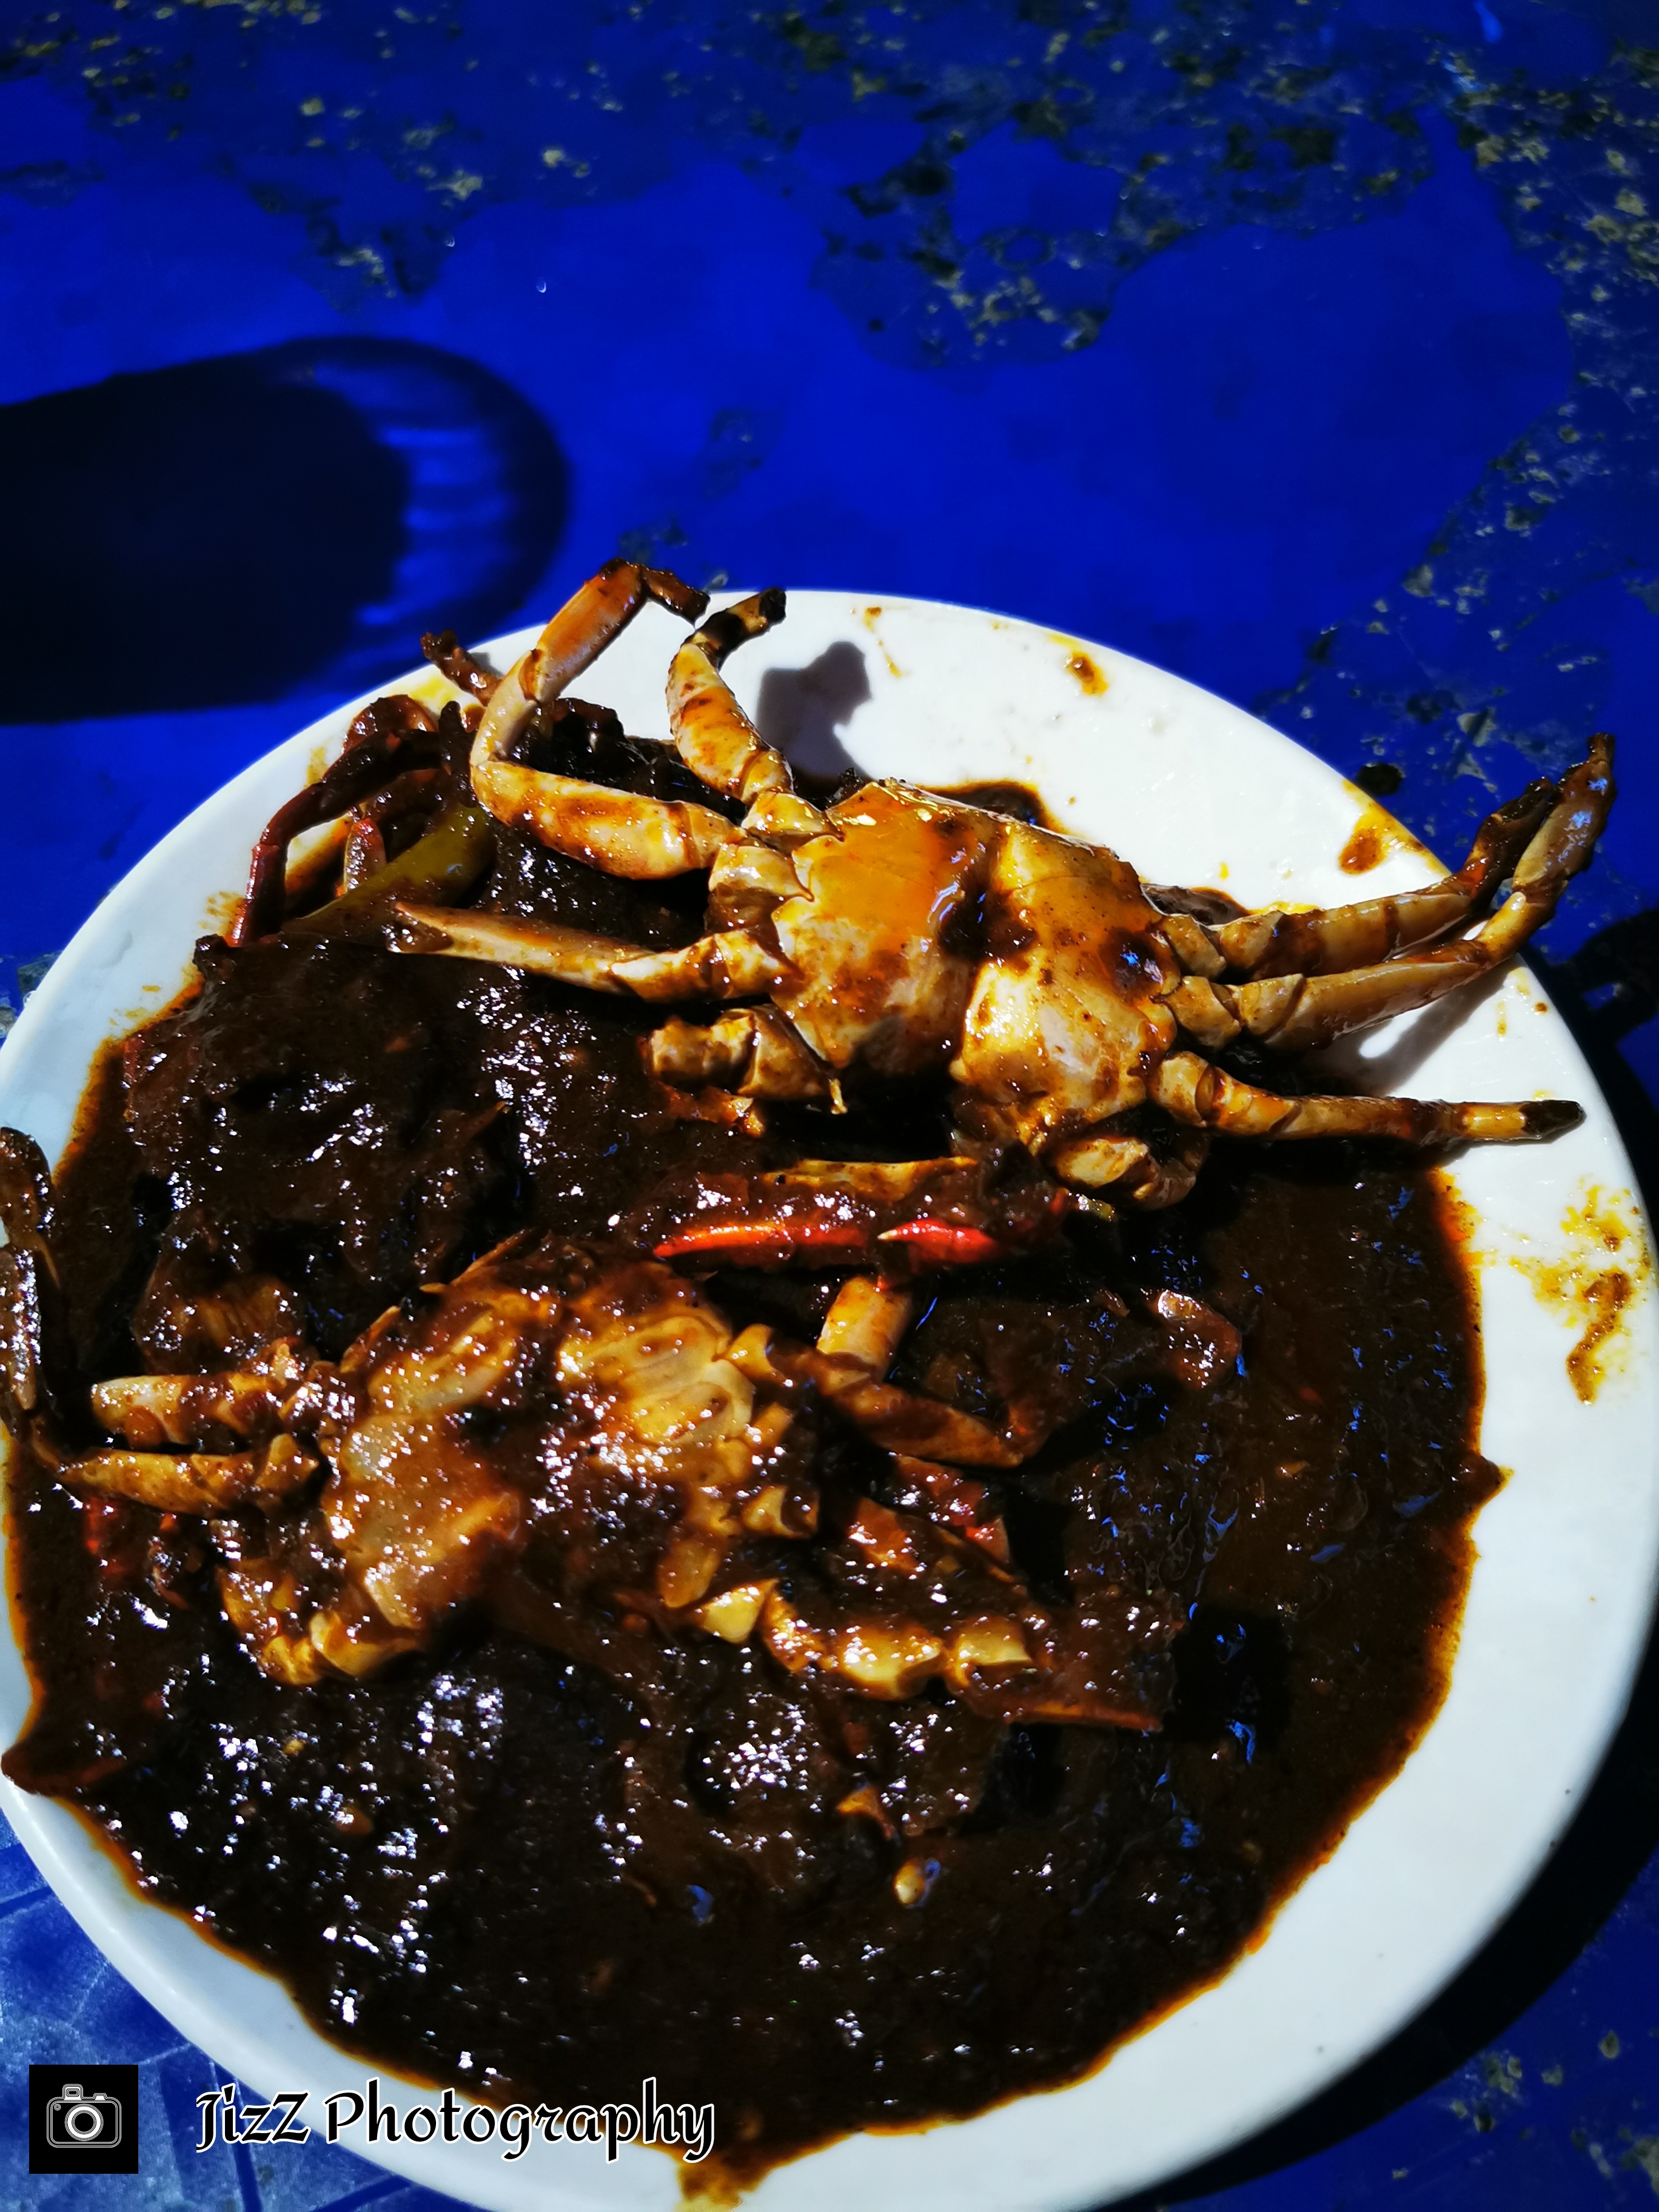food: (0, 535, 1633, 2209)
